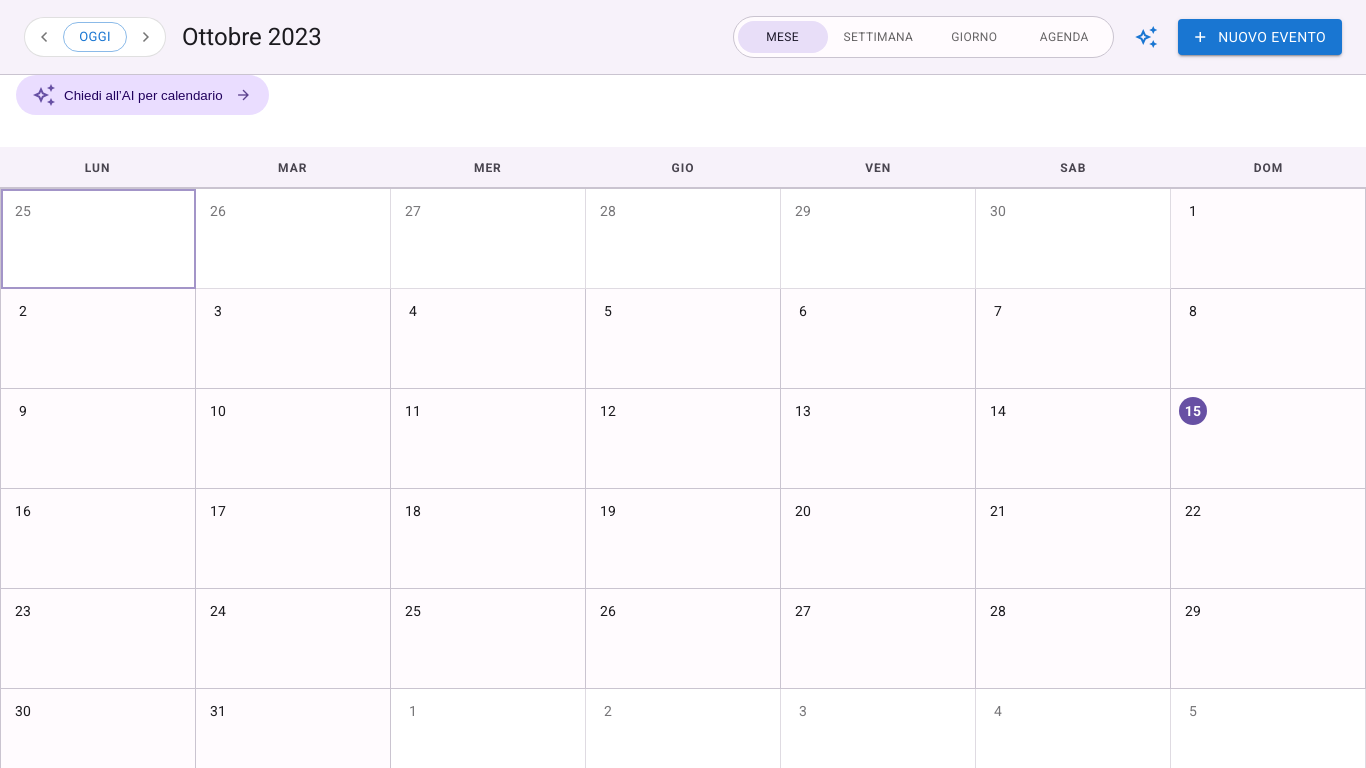
Test: Calendar › dovrebbe cambiare mese
The image size is (1366, 768).
Note: Find the next button by aria-label
Step 1. Click the button named "periodo successivo" → click(146, 37), box [131,22,161,52]
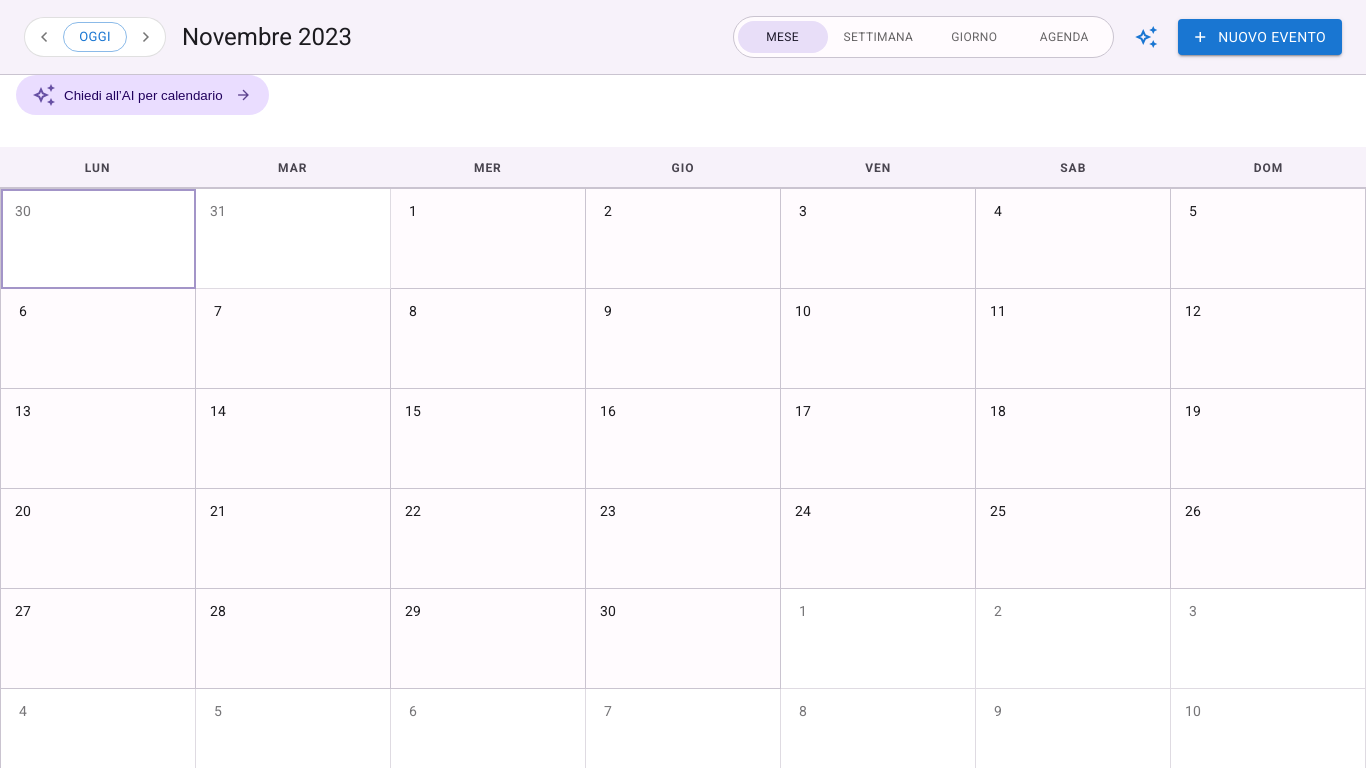
Now the heading "Novembre 2023" is shown, box [182,21,352,53]
